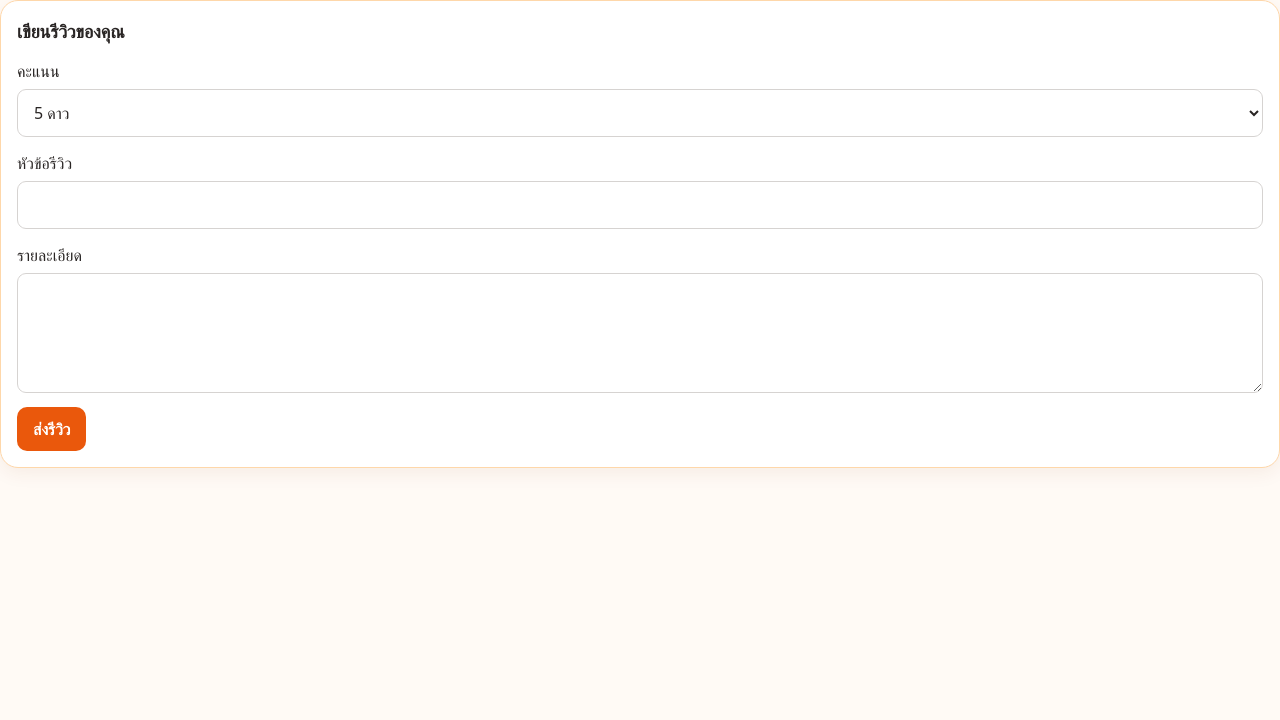
ReviewForm › confirms successful submissions are waiting for moderation
The image size is (1280, 720).
Type "อร่อยมาก" into the field labelled "หัวข้อรีวิว" at [640, 205], box [17,181,1263,229]
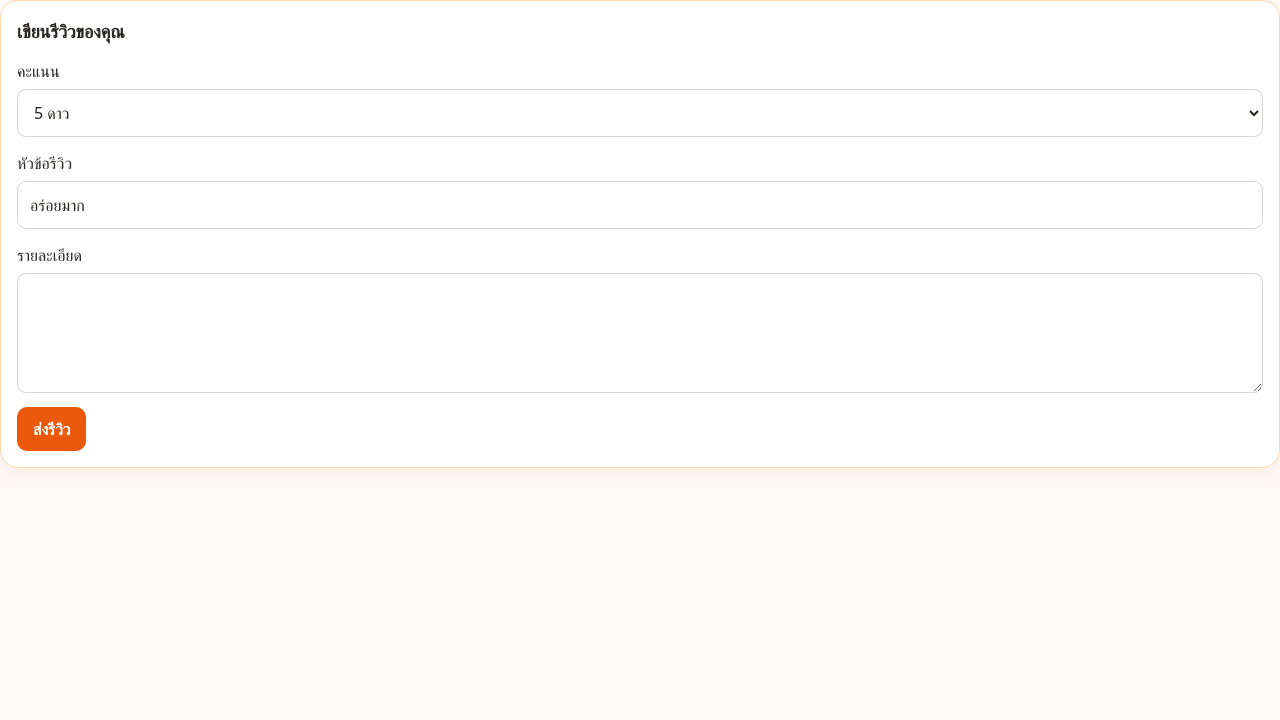
Type "แป้งนุ่มและชีสเข้มข้น" into the text box labelled "รายละเอียด" at [640, 333], box [17,273,1263,393]
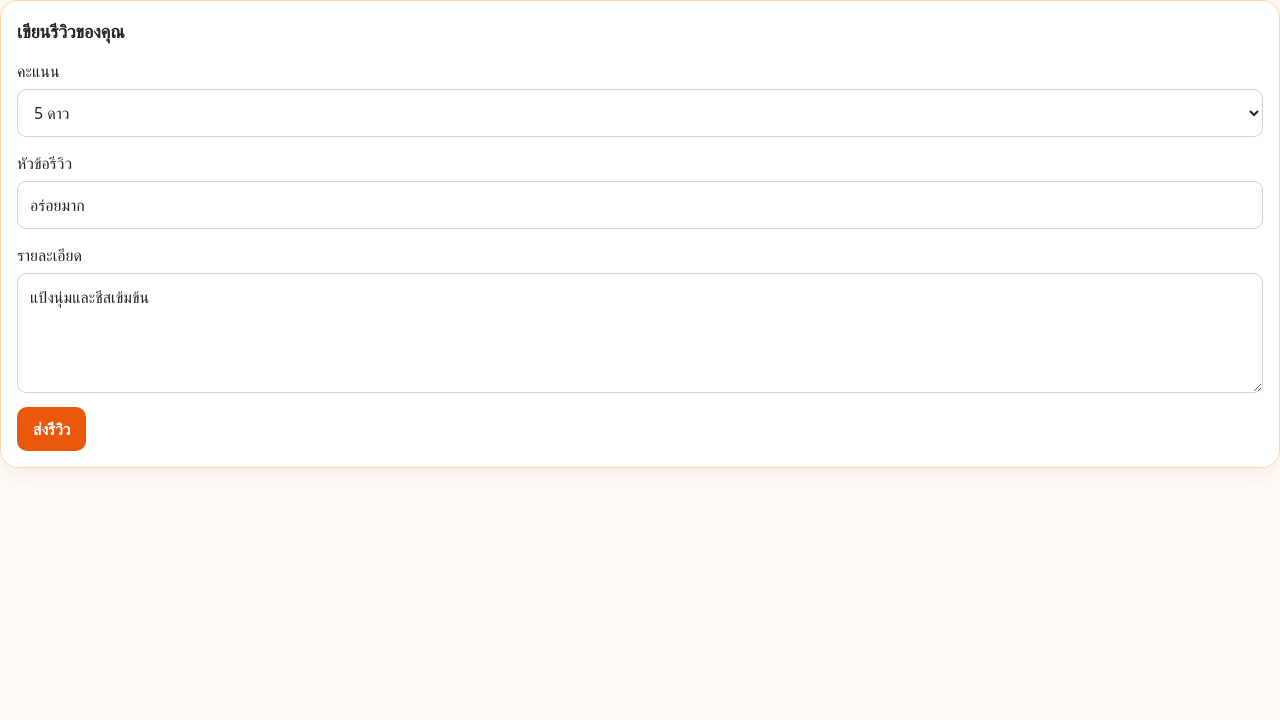
Click the button "ส่งรีวิว" at [52, 429], box [17,407,86,451]
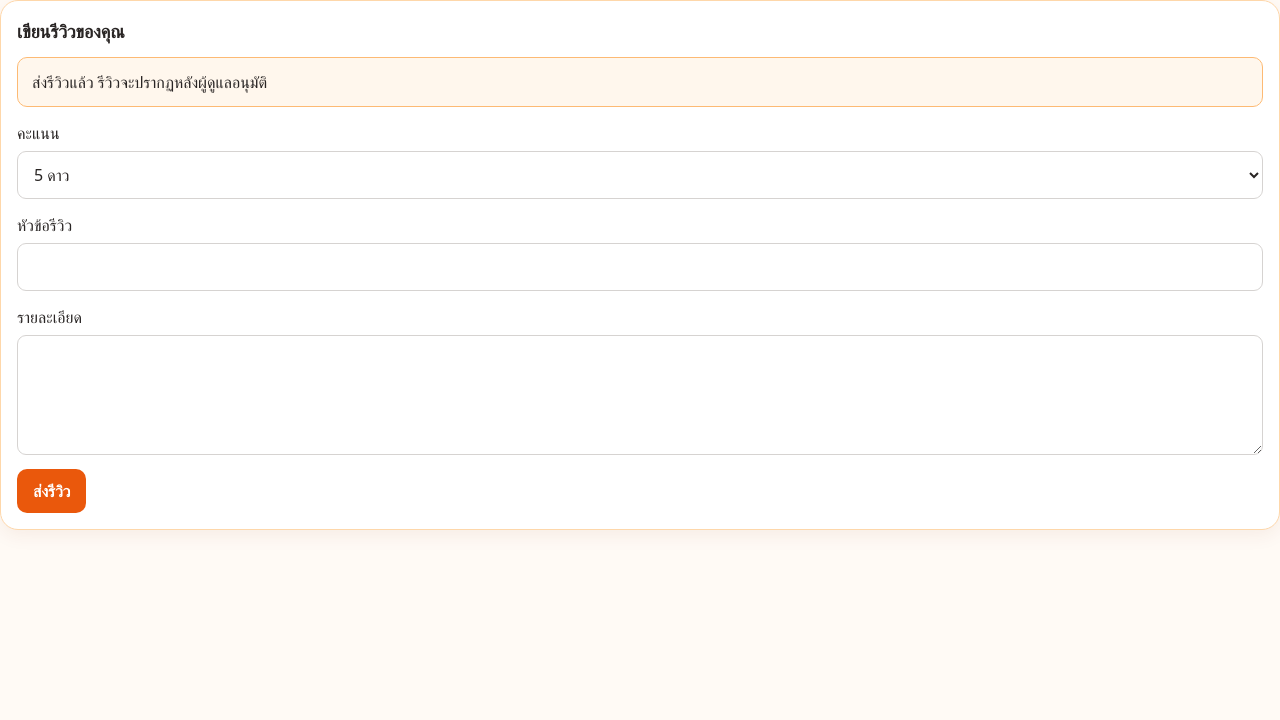
Result: the message reads "ส่งรีวิวแล้ว รีวิวจะปรากฏหลังผู้ดูแลอนุมัติ" at [32,71,267,93]
